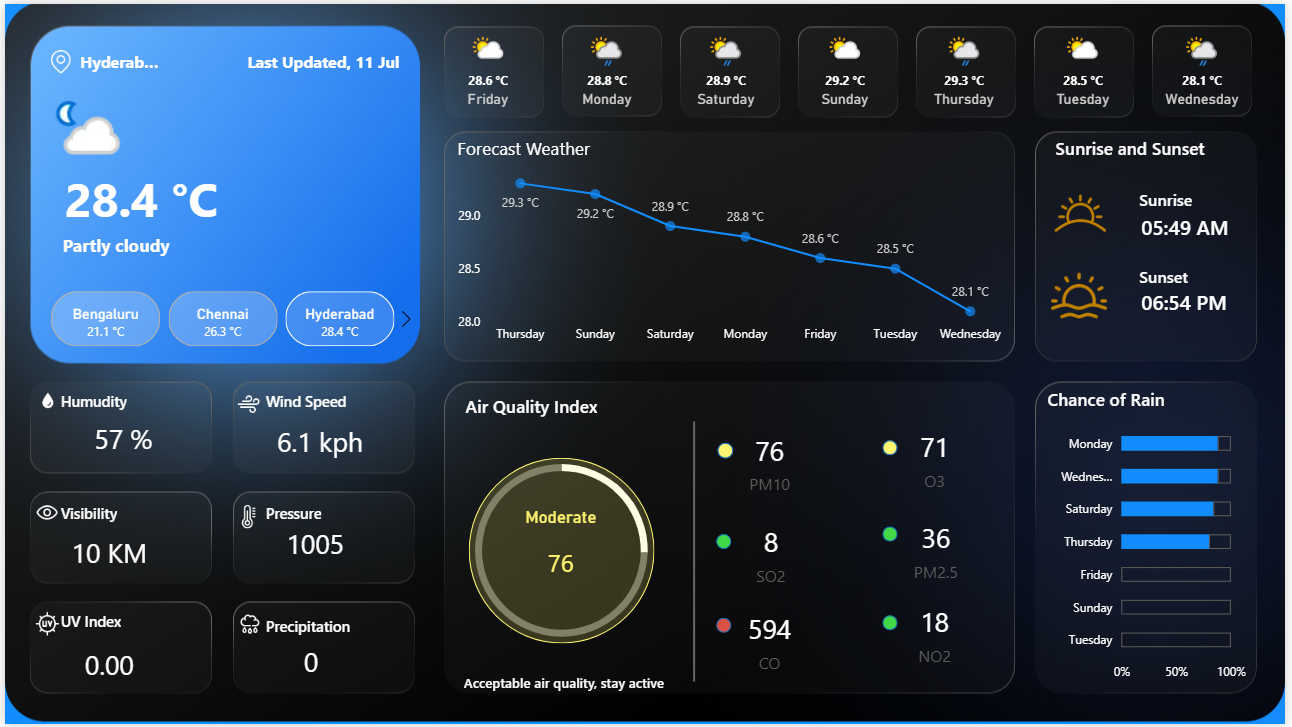

The dashboard page shown, as its layout file describes it:
{"tool":"powerbi","page":{"name":"Page 1","canvas":[1280,720],"ordinal":0},"visuals":[{"type":"donutChart","fields":{"Y":["Sum(Current.current.air_quality.pm10)","_Measure.Left_Value_PM10"]},"box":[444.3,434.3,225.7,225.7],"z":0},{"type":"shape","box":[464.3,454.3,185.7,185.7],"z":1000},{"type":"advancedSlicerVisual","fields":{"Values":["Location.location.name"]},"box":[21.4,282.9,395.7,65.7],"z":2000},{"type":"shape","box":[54.8,157.3,205,65],"z":3000},{"type":"shape","box":[54.8,222.3,368.1,36.1],"z":4000},{"type":"shape","box":[72.2,41.9,85.2,33.2],"z":5000},{"type":"shape","box":[239.6,41.9,160.2,33.2],"z":6000},{"type":"image","box":[36.1,41.9,39,33.2],"z":7000},{"type":"cardVisual","fields":{"Data":["Min(Current.current.condition.icon)"]},"box":[21.7,75.1,108.3,93.8],"z":8000},{"type":"image","box":[21.4,384.3,42.9,25.7],"z":9000},{"type":"shape","box":[54.3,384.3,100,25.7],"z":10000},{"type":"image","box":[14.3,491.4,57.1,34.3],"z":11000},{"type":"shape","box":[54.3,495.7,100,25.7],"z":12000},{"type":"image","box":[18.6,602.9,47.1,34.3],"z":13000},{"type":"shape","box":[54.3,604.3,100,25.7],"z":14000},{"type":"image","box":[220,384.3,47.1,32.9],"z":15000},{"type":"shape","box":[258.6,384.3,100,25.7],"z":16000},{"type":"image","box":[214.3,495.7,60,32.9],"z":17000},{"type":"shape","box":[258.6,495.7,100,25.7],"z":18000},{"type":"image","box":[224.3,604.3,42.9,32.9],"z":19000},{"type":"shape","box":[258.6,608.6,100,25.7],"z":20000},{"type":"card","fields":{"Values":["_Measures.Wind_Speed"]},"box":[258.6,410,112.9,57.1],"z":21000},{"type":"card","fields":{"Values":["_Measures.Visibility"]},"box":[58.6,521.4,91.4,57.1],"z":22000},{"type":"card","fields":{"Values":["Sum(Current.current.uv)"]},"box":[58.6,634.3,91.4,57.1],"z":23000},{"type":"card","fields":{"Values":["Sum(Current.current.precip_in)"]},"box":[262.9,630,87.1,57.1],"z":24000},{"type":"card","fields":{"Values":["_Measures.Humidity"]},"box":[65.7,401.4,104.3,70],"z":25000},{"type":"card","fields":{"Values":["Sum(Current.current.pressure_mb)"]},"box":[262.9,512.9,95.7,57.1],"z":26000},{"type":"advancedSlicerVisual","fields":{"Values":["Forecast_day.Day_Name"]},"box":[422.9,21.4,840,100],"z":27000},{"type":"lineChart","title":"Forecast Weather","fields":{"Y":["Sum(Forecast_day.forecast.forecastday.day.avgtemp_c)"],"Category":["Forecast_day.Day_Name"]},"box":[447.1,132.9,560,215.7],"z":28000},{"type":"shape","box":[1048.6,131.4,157.1,25.7],"z":29000},{"type":"shape","box":[1132.9,195.7,112.9,52.9],"z":30000},{"type":"shape","box":[1132.9,271.4,112.9,52.9],"z":31000},{"type":"shape","box":[1132.9,182.9,100,25.7],"z":32000},{"type":"shape","box":[1132.9,258.6,100,25.7],"z":33000},{"type":"image","box":[1014.3,170,122.9,78.6],"z":34000},{"type":"image","box":[1021.4,258.6,105.7,65.7],"z":35000},{"type":"hundredPercentStackedBarChart","title":"Chance of Rain","fields":{"Y":["Sum(Forecast_day.forecast.forecastday.day.daily_chance_of_rain)","_Measure.Left_Value_Rain"],"Category":["Forecast_day.Day_Name"]},"box":[1037.1,384.3,208.6,302.9],"z":36000},{"type":"shape","box":[458.6,388.6,157.1,25.7],"z":37000},{"type":"card","fields":{"Values":["Sum(Current.current.air_quality.o3)"]},"box":[875.7,417.1,107.1,74.3],"z":38000},{"type":"card","fields":{"Values":["Sum(Current.current.air_quality.pm2_5)"]},"box":[877.1,508.6,107.1,74.3],"z":39000},{"type":"card","fields":{"Values":["Sum(Current.current.air_quality.no2)"]},"box":[875.7,592.9,107.1,74.3],"z":40000},{"type":"card","fields":{"Values":["Sum(Current.current.air_quality.pm10)"]},"box":[711.4,421.4,107.1,74.3],"z":41000},{"type":"card","fields":{"Values":["Sum(Current.current.air_quality.co)"]},"box":[711.4,600,107.1,74.3],"z":42000},{"type":"card","fields":{"Values":["Sum(Current.current.air_quality.so2)"]},"box":[712.9,512.9,107.1,74.3],"z":43000},{"type":"shape","box":[712.9,438.6,15.7,15.7],"z":44000},{"type":"shape","box":[711.4,614.3,15,15],"z":45000},{"type":"shape","box":[711.4,530,15,15],"z":46000},{"type":"shape","box":[877.1,611.4,15,15],"z":47000},{"type":"shape","box":[877.1,522.9,15,15],"z":48000},{"type":"shape","box":[877.1,435.7,15,15],"z":49000},{"type":"shape","box":[681.4,417.1,15.7,260],"z":50000},{"type":"card","fields":{"Values":["Sum(Current.current.air_quality.pm10)"]},"box":[494.3,502.9,124.3,97.1],"z":51000},{"type":"shape","box":[447.1,654.3,222.9,50],"z":52000}]}

Visuals, with their boxes in screenshot pixels (x1, y1, x2, y2), scaled from the page's 1280x720 canvas onto the 1292x727 screenshot:
donutChart - Sum(Current.current.air_quality.pm10) x _Measure.Left_Value_PM10: (448,439,676,666)
shape: (469,459,656,646)
advancedSlicerVisual - Location.location.name: (22,286,421,352)
shape: (55,159,262,224)
shape: (55,224,427,261)
shape: (73,42,159,76)
shape: (242,42,404,76)
image: (36,42,76,76)
cardVisual - Min(Current.current.condition.icon): (22,76,131,171)
image: (22,388,65,414)
shape: (55,388,156,414)
image: (14,496,72,531)
shape: (55,501,156,526)
image: (19,609,66,643)
shape: (55,610,156,636)
image: (222,388,270,421)
shape: (261,388,362,414)
image: (216,501,277,534)
shape: (261,501,362,526)
image: (226,610,270,643)
shape: (261,615,362,640)
card - _Measures.Wind_Speed: (261,414,375,472)
card - _Measures.Visibility: (59,526,151,584)
card - Sum(Current.current.uv): (59,640,151,698)
card - Sum(Current.current.precip_in): (265,636,353,694)
card - _Measures.Humidity: (66,405,172,476)
card - Sum(Current.current.pressure_mb): (265,518,362,576)
advancedSlicerVisual - Forecast_day.Day_Name: (427,22,1275,123)
"Forecast Weather" lineChart: (451,134,1017,352)
shape: (1058,133,1217,159)
shape: (1144,198,1257,251)
shape: (1144,274,1257,327)
shape: (1144,185,1244,211)
shape: (1144,261,1244,287)
image: (1024,172,1148,251)
image: (1031,261,1138,327)
"Chance of Rain" hundredPercentStackedBarChart: (1047,388,1257,694)
shape: (463,392,621,418)
card - Sum(Current.current.air_quality.o3): (884,421,992,496)
card - Sum(Current.current.air_quality.pm2_5): (885,514,993,589)
card - Sum(Current.current.air_quality.no2): (884,599,992,674)
card - Sum(Current.current.air_quality.pm10): (718,425,826,501)
card - Sum(Current.current.air_quality.co): (718,606,826,681)
card - Sum(Current.current.air_quality.so2): (720,518,828,593)
shape: (720,443,735,459)
shape: (718,620,733,635)
shape: (718,535,733,550)
shape: (885,617,900,632)
shape: (885,528,900,543)
shape: (885,440,900,455)
shape: (688,421,704,684)
card - Sum(Current.current.air_quality.pm10): (499,508,624,606)
shape: (451,661,676,711)
